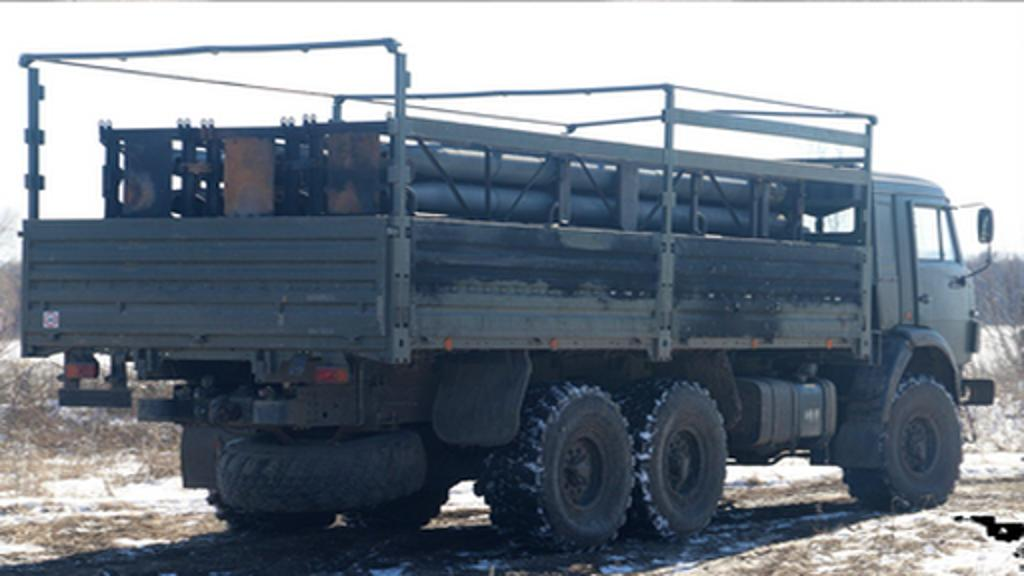TRUCK: (12, 36, 988, 542)
